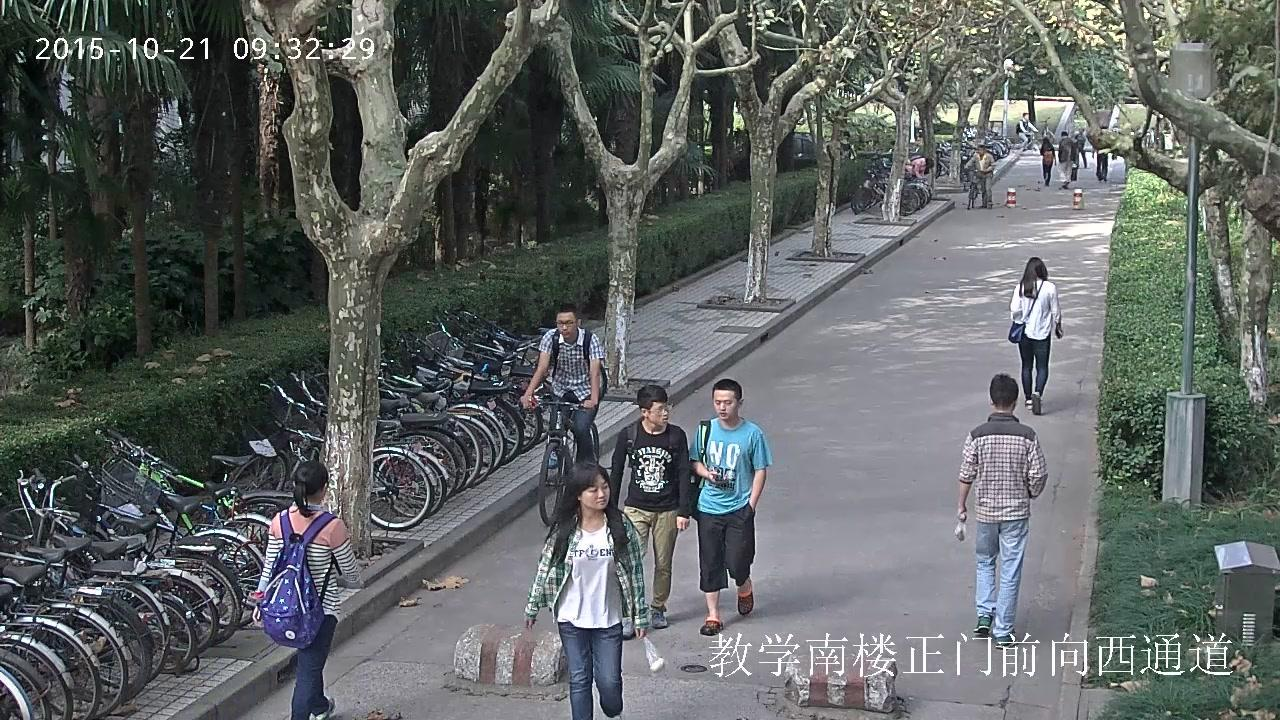face: (580, 473, 610, 508), (712, 390, 736, 421), (557, 311, 576, 338), (649, 403, 670, 426), (1023, 112, 1028, 120), (977, 148, 982, 154)
